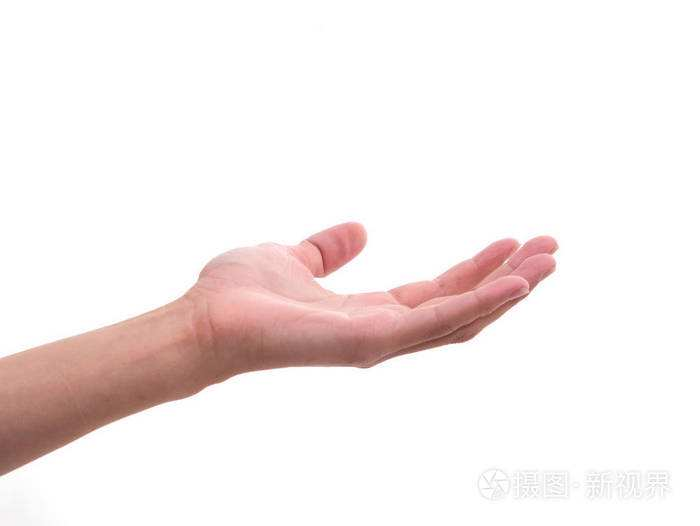no-phone: (188, 212, 564, 375)
